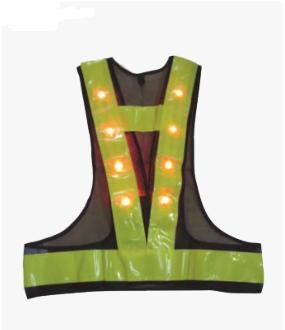vest: (21, 58, 264, 298)
